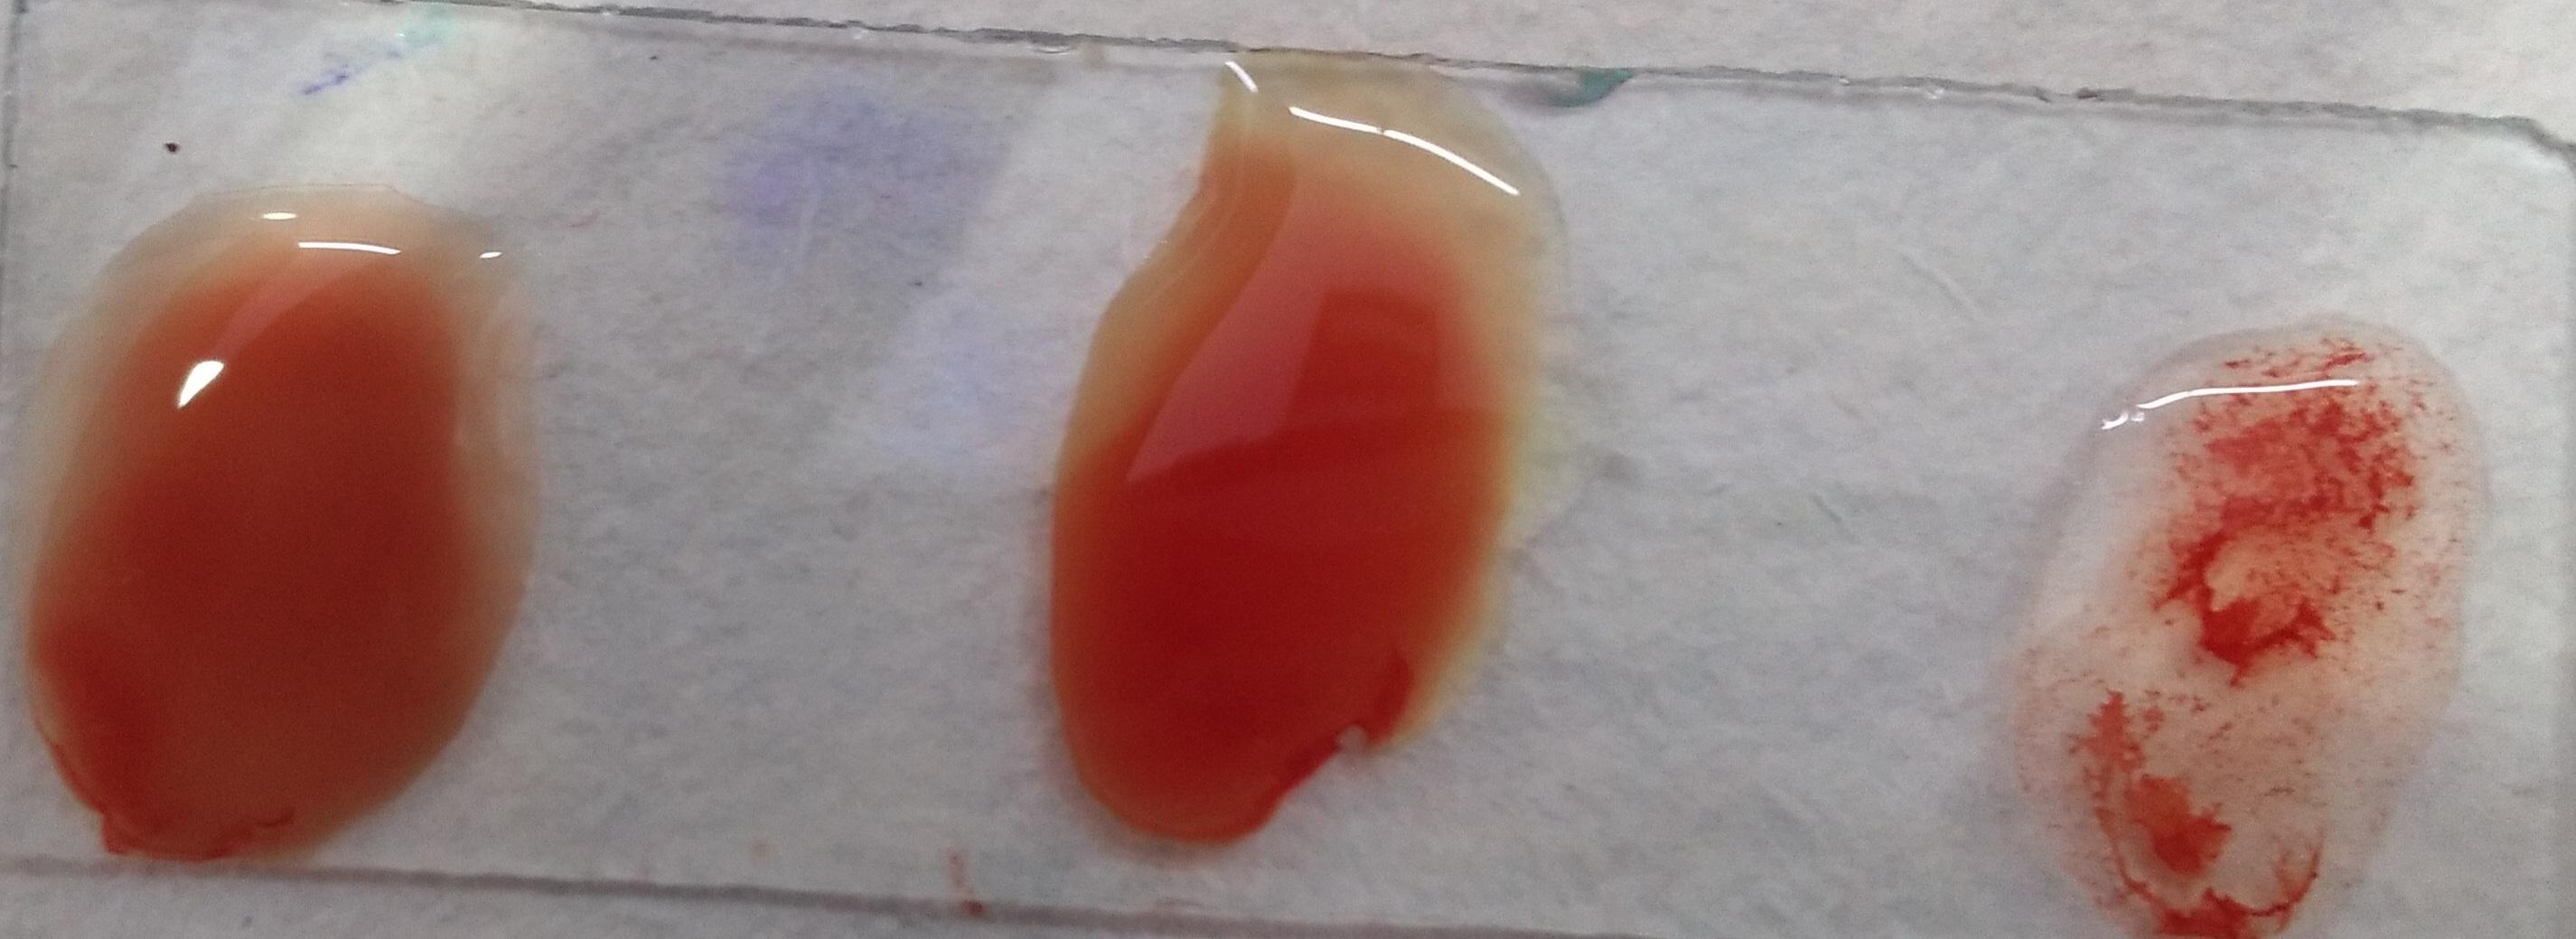D: (115, 7, 540, 562)
